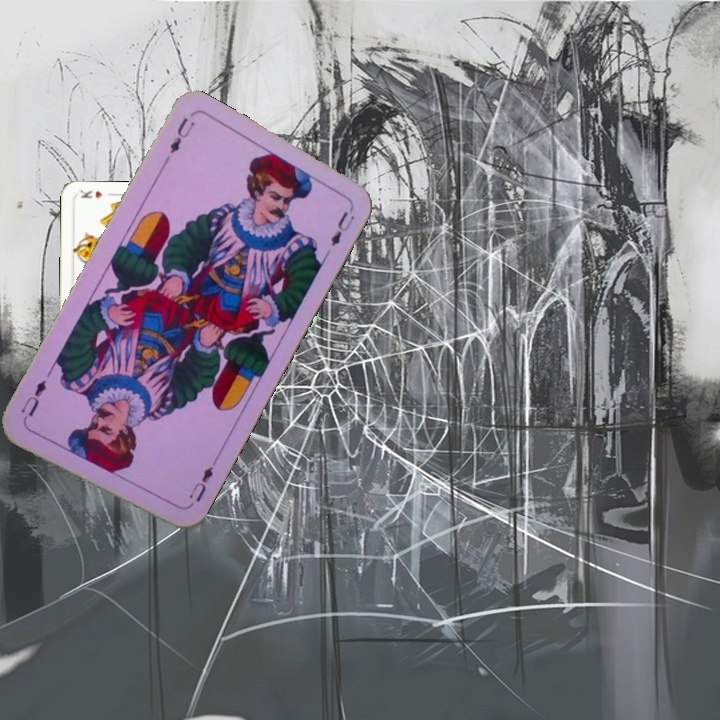EU: (165, 113, 197, 157), (184, 462, 216, 505)
